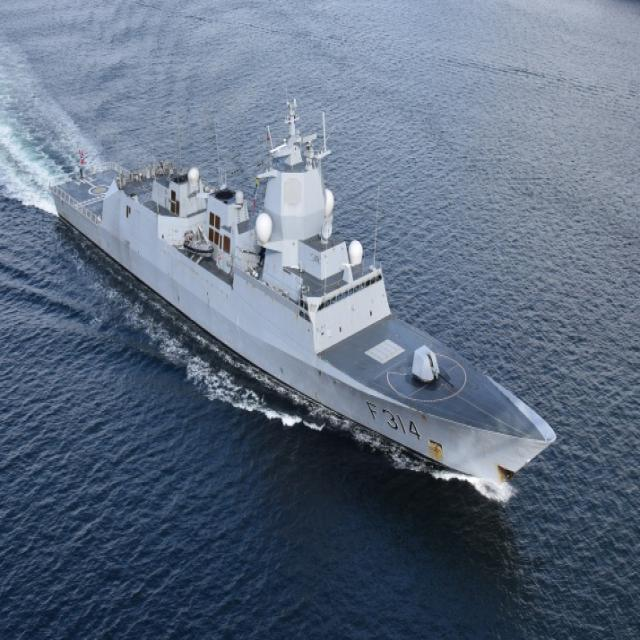Fragata: (47, 85, 559, 490)
